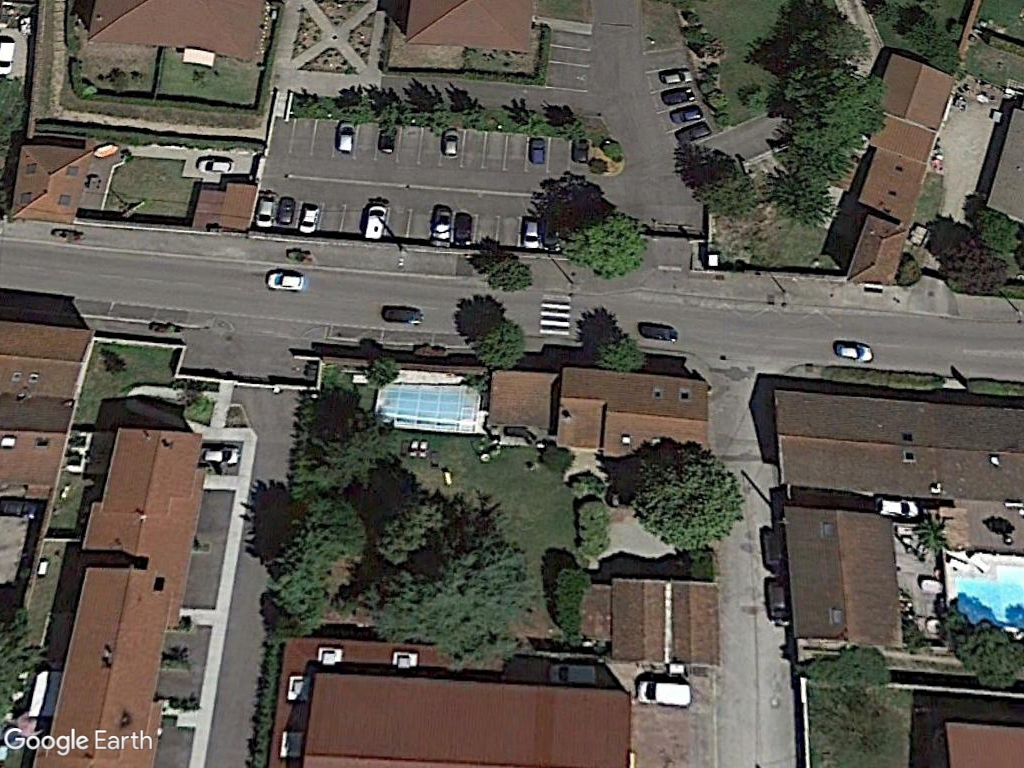car: (636, 317, 684, 346), (377, 301, 428, 328), (265, 264, 308, 295), (833, 337, 878, 365), (527, 131, 550, 171), (299, 195, 321, 236), (440, 123, 463, 162), (335, 119, 357, 156)
van: (633, 675, 696, 709), (363, 195, 390, 245)
